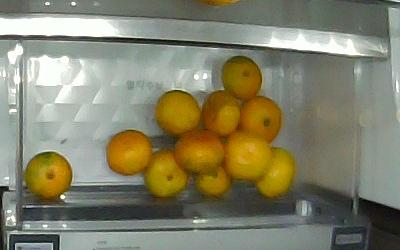tangerine: (23, 151, 74, 202), (224, 132, 274, 181), (154, 89, 202, 137), (175, 131, 225, 176), (106, 129, 152, 176), (258, 147, 298, 199), (238, 97, 283, 143), (145, 150, 188, 198), (201, 89, 240, 136), (221, 54, 262, 96), (195, 167, 231, 198)
